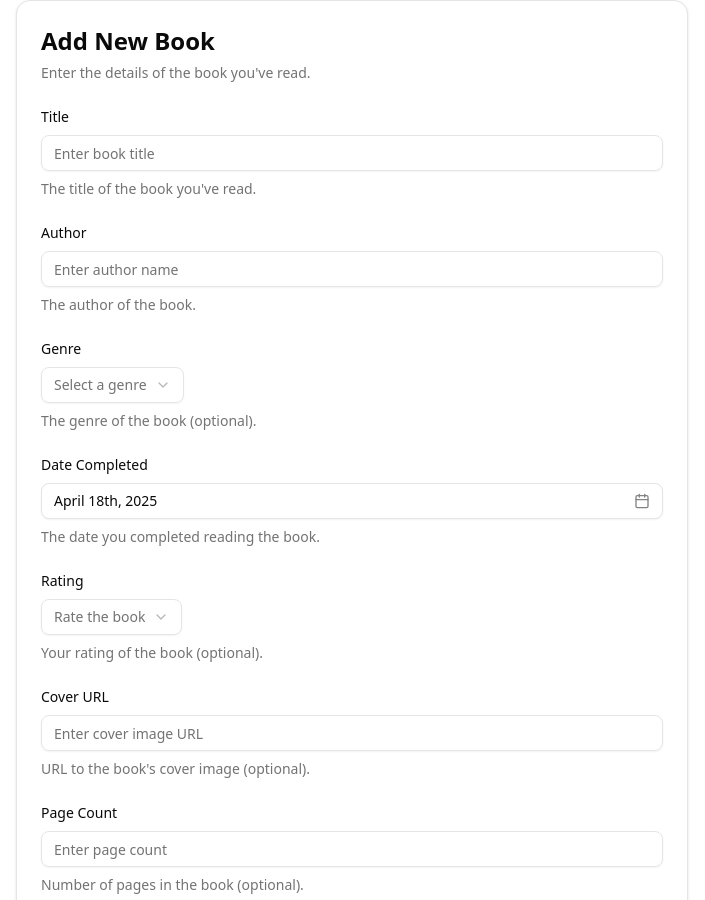
Book Form and API Integration › Creating a new book › should display error message on API failure
# Fill in the form
Type "Test Book" into the field labelled "Title" at point(352, 153), box [41,135,663,171]
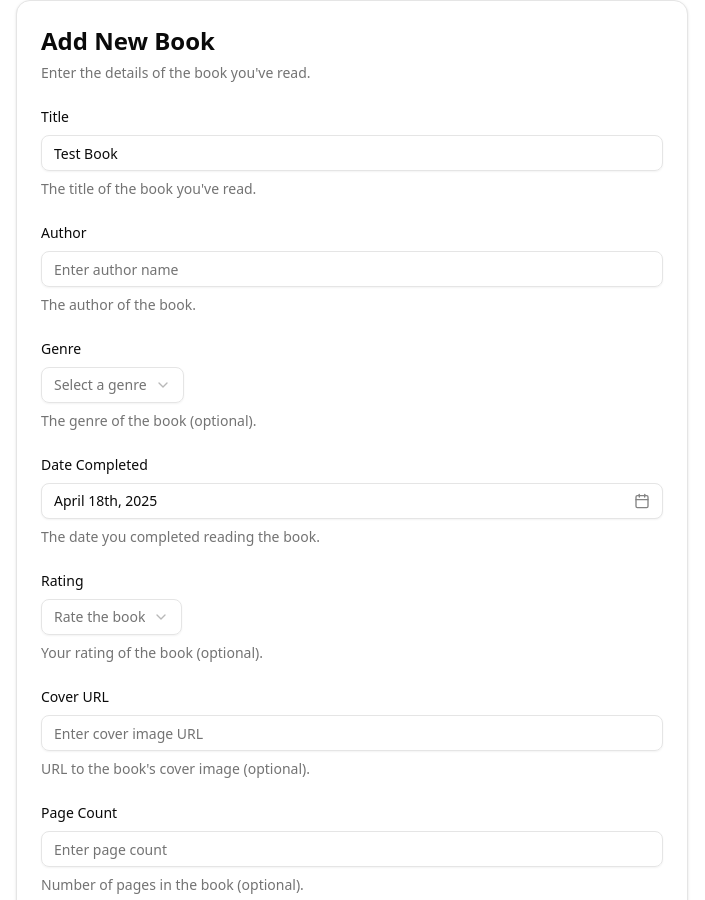
Type "Test Author" into the field labelled "Author" at point(352, 269), box [41,251,663,287]
(page scrolled)
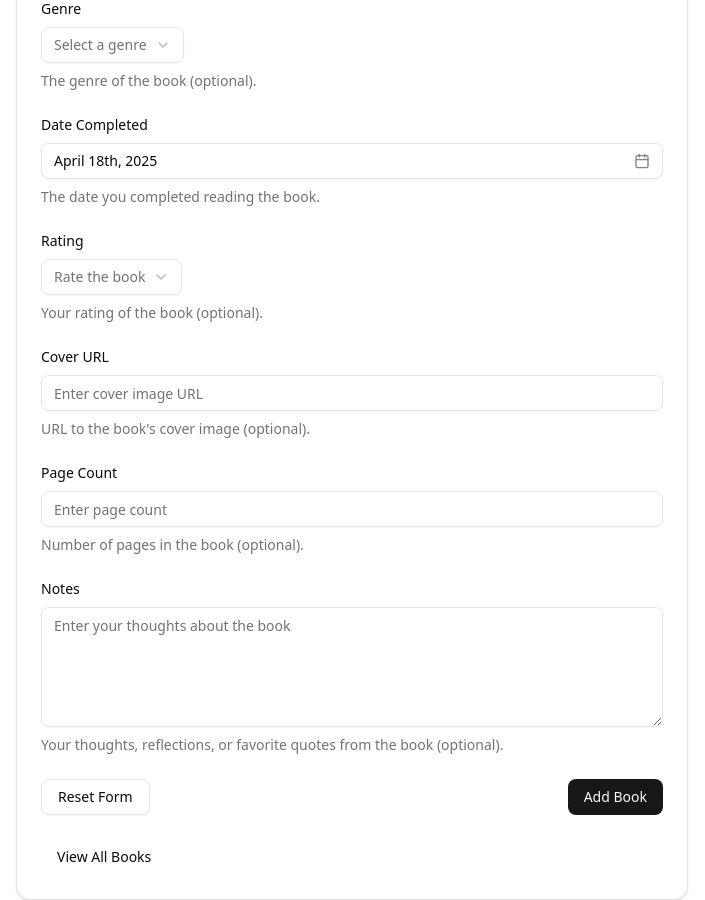
# Submit the form
Click the button "Add Book" at point(615, 797), box [568,779,663,815]
(page scrolled)
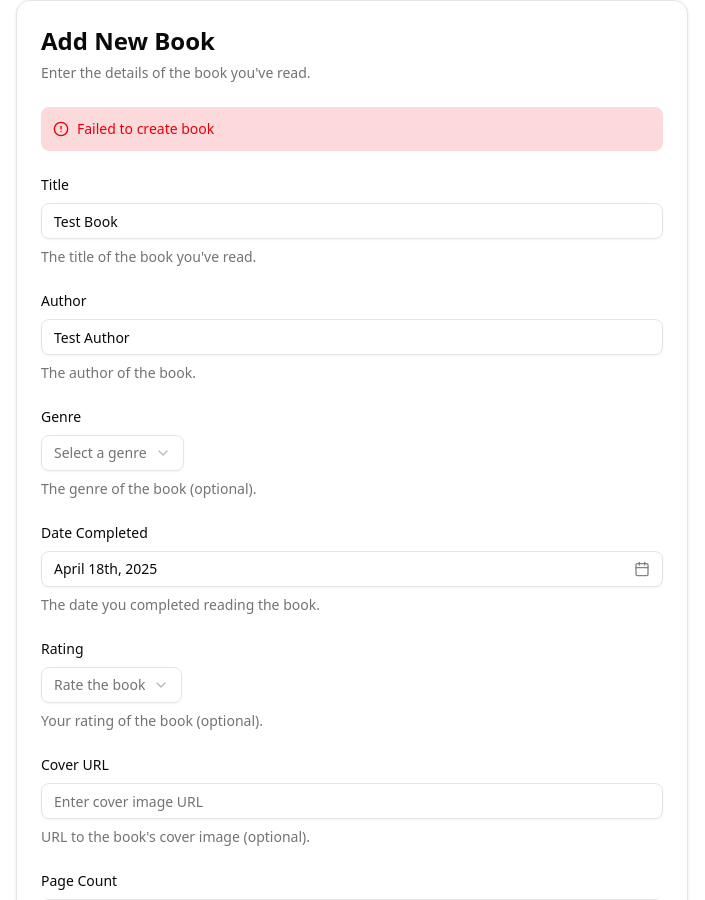
Expected: the text "Failed to create book" is shown, [77,119,214,139]
